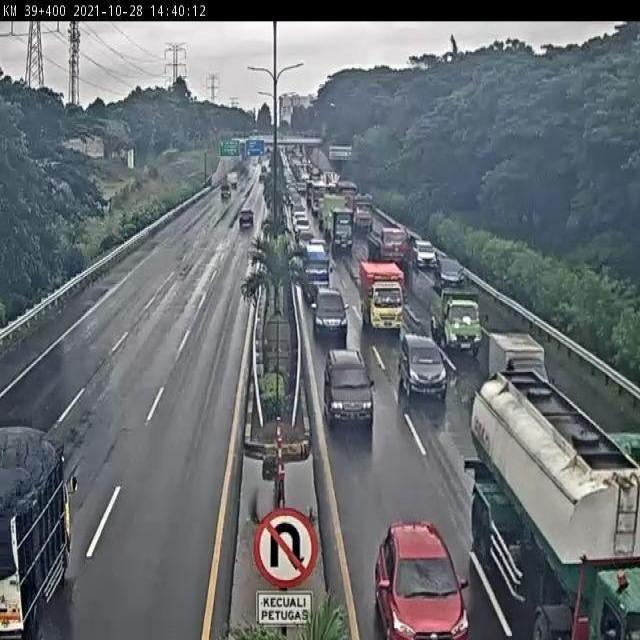bus-s-: (299, 241, 332, 299)
car: (323, 345, 379, 428), (398, 329, 449, 402), (312, 288, 348, 339), (432, 255, 468, 292), (411, 236, 439, 272)
truck-m-: (428, 279, 483, 352), (358, 259, 404, 332), (328, 204, 355, 252)
truck-s-: (486, 332, 551, 391)
truck-xl-: (364, 227, 412, 270)
